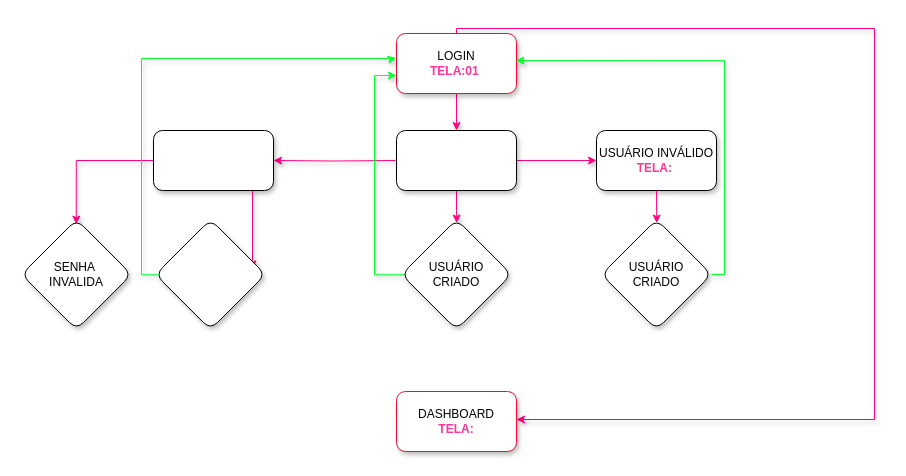
Image size: 906x476. Some labels were removed from this diagram. The centre of each missing label's shape, as x and y in pixels:
"CADASTRAR USUÁRIO TELA:" belongs at point (457, 162).
"REDEFINIR SENHA TELA:" belongs at point (214, 162).
"SENHA REDEFINIDA" belongs at point (211, 275).
